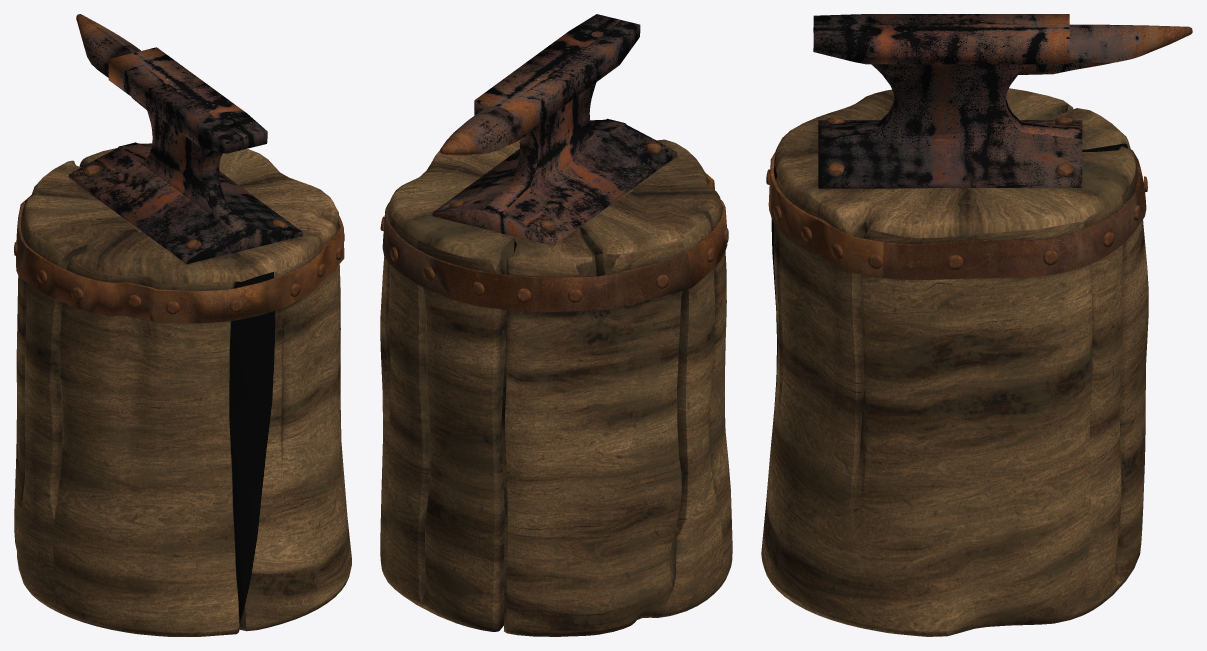
The model's file is AnvilBlock.fbx.
3 views of the same model, side by side, from view 1: azimuth 30°, elevation 25°; view 2: azimuth 150°, elevation 25°; view 3: azimuth 270°, elevation 25° (orthographic). The views are drawn at different scales.
Visible parts, largest first — view 1: AnvilBlock; view 2: AnvilBlock; view 3: AnvilBlock.
Part boxes in pixels (box(x1,y1,x2,y2)): AnvilBlock: box(14, 14, 351, 636); AnvilBlock: box(380, 14, 732, 636); AnvilBlock: box(761, 14, 1192, 636).
Bounding box in the file's own units: 0.5031 × 0.7891 × 0.5734.
Materials: 4 (4 with a texture image).
